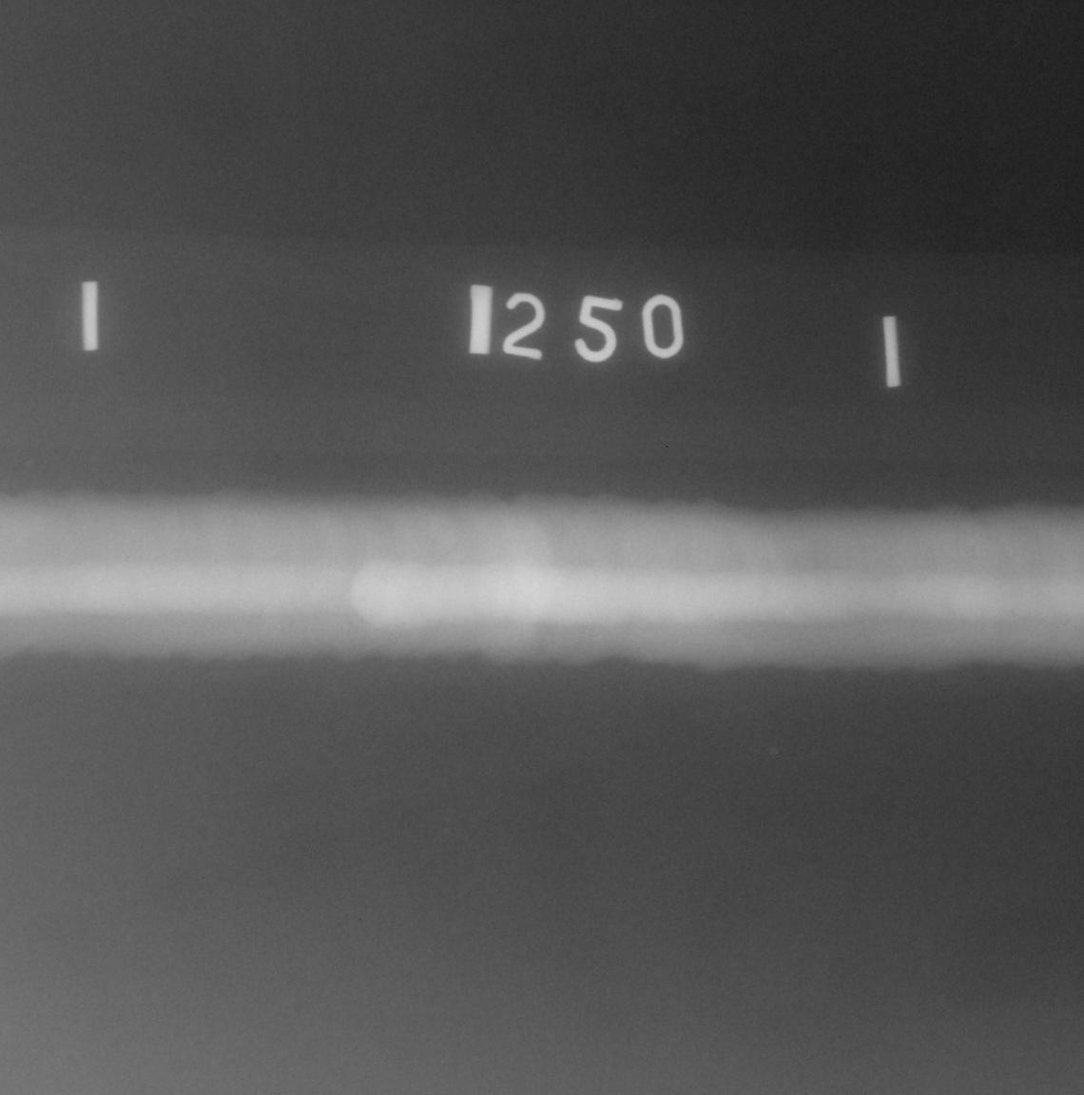Inclusion: (133, 540, 144, 544)
